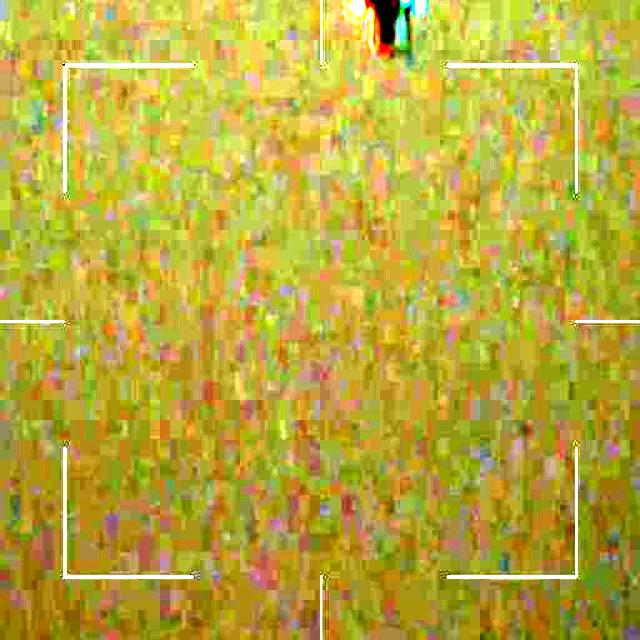bird: (341, 0, 430, 56)
